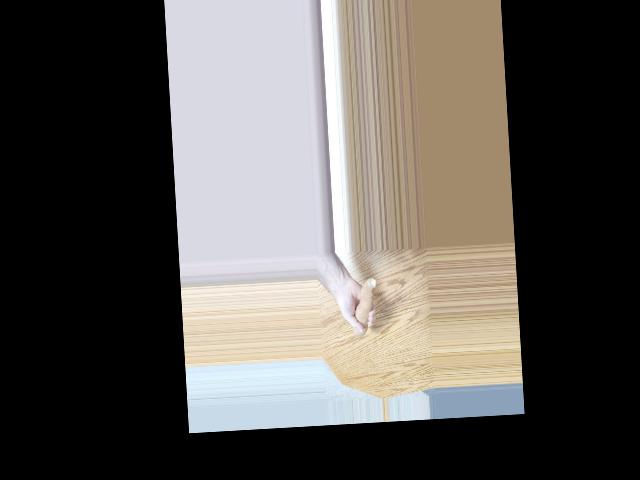sweet_potato: (351, 274, 378, 339)
